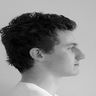ear: (23, 41, 50, 68)
